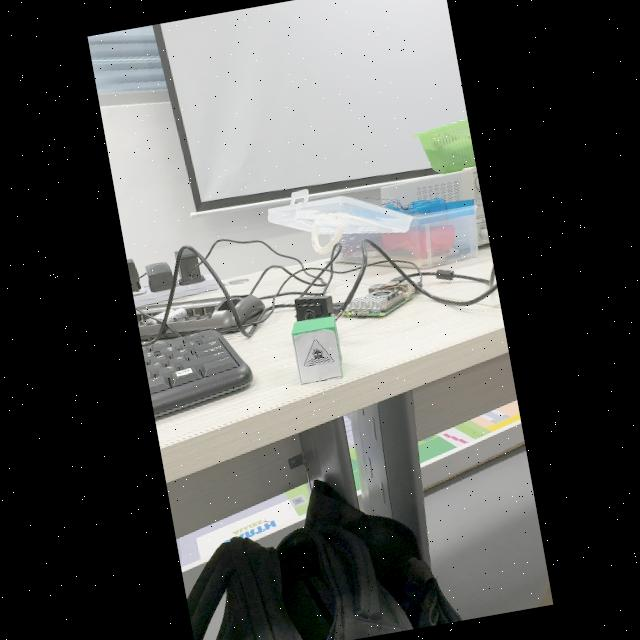Tsunami: (304, 340, 333, 366)
